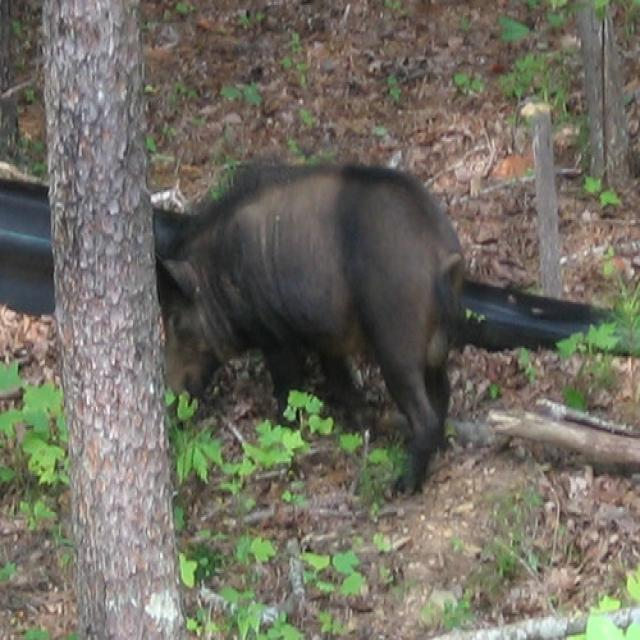boar: (128, 136, 488, 508)
